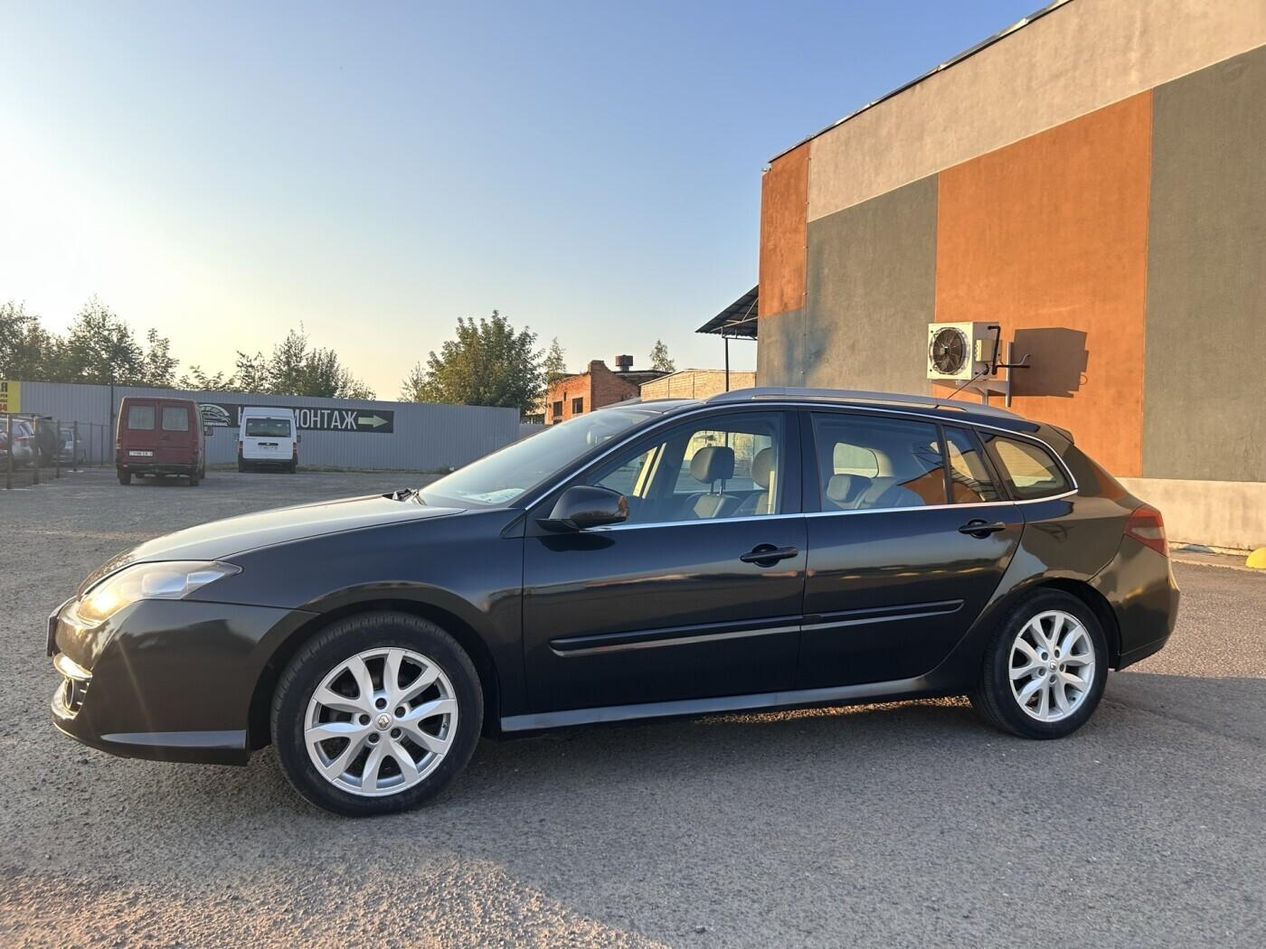Laguna_2007-2011: (46, 389, 1178, 815)
